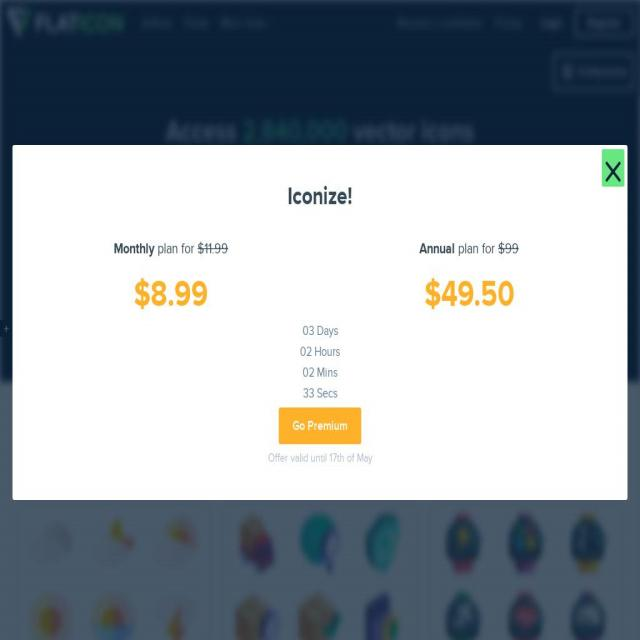buy-option: (272, 400, 368, 448)
